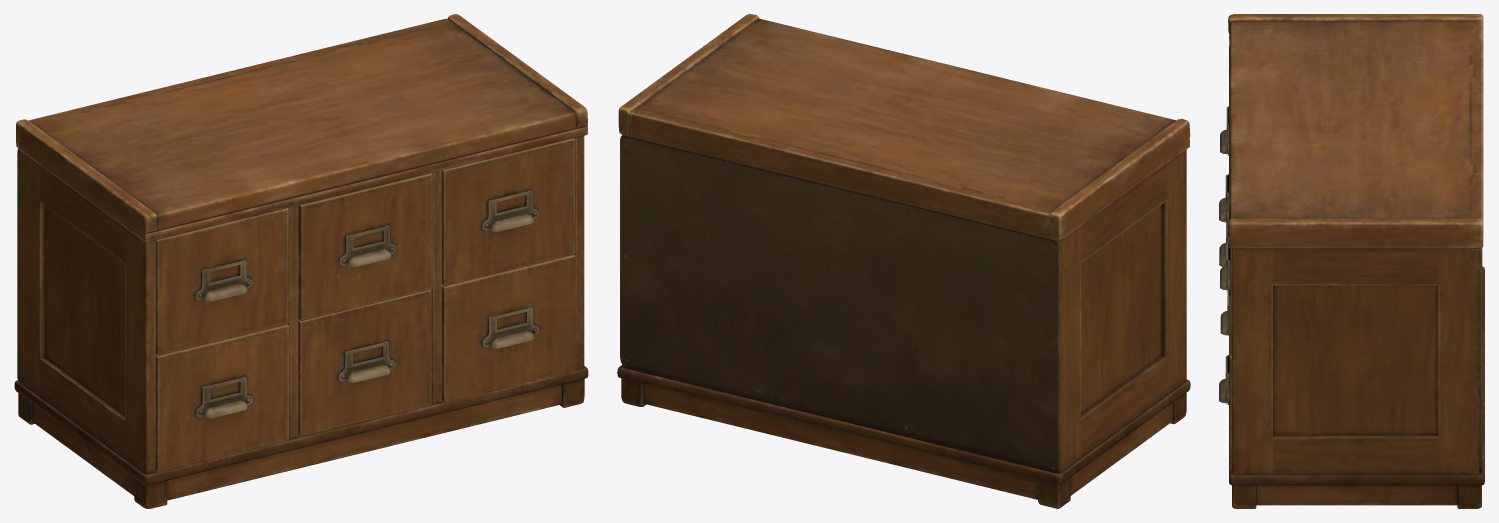
The model's file is ph-vintage_wooden_drawer_01.glb.
The picture shows the model from 3 angles, left to right: view 1: azimuth 30°, elevation 25°; view 2: azimuth 150°, elevation 25°; view 3: azimuth 270°, elevation 25°; orthographic projection. The views are drawn at different scales.
Visible parts, largest first — view 1: vintage_wooden_drawer_01_body; view 2: vintage_wooden_drawer_01_body; view 3: vintage_wooden_drawer_01_body.
Boxes of the visible parts, <box> form: vintage_wooden_drawer_01_body: <box>14,14,588,508</box>; vintage_wooden_drawer_01_body: <box>617,14,1190,508</box>; vintage_wooden_drawer_01_body: <box>1219,14,1484,508</box>.
Size of the model in its own units: 1 by 0.6361 by 0.5334.
1 material, 1 textured.
